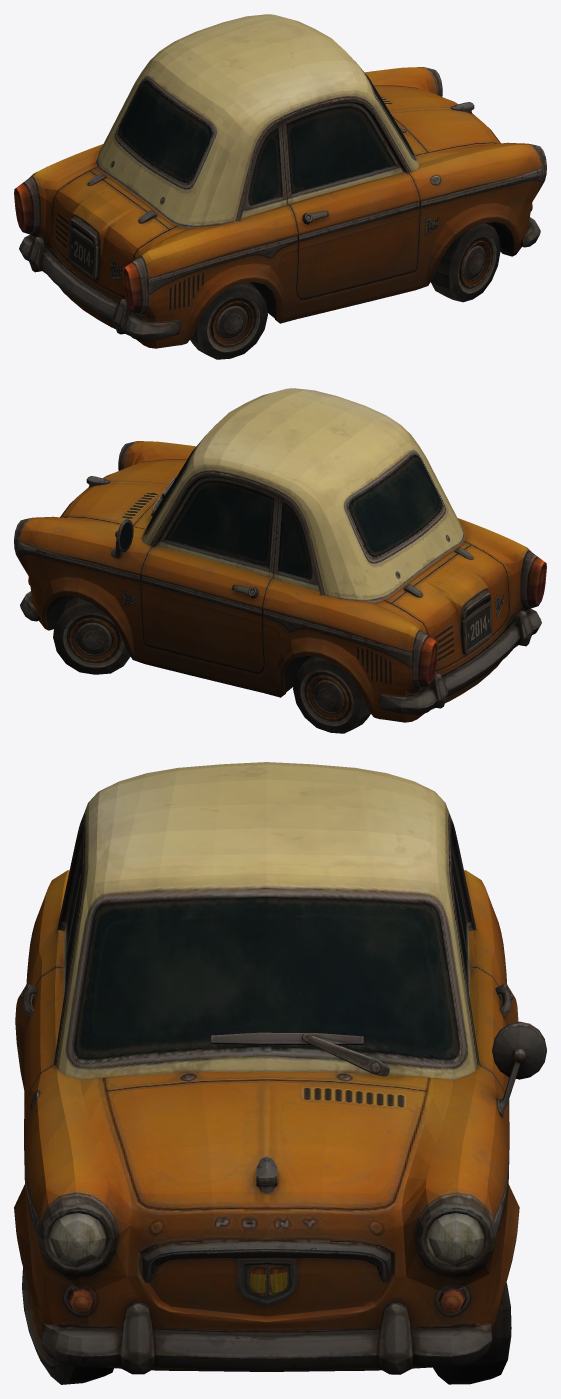
File: car.glb
3 views of the same model, one above another, from view 1: azimuth 30°, elevation 25°; view 2: azimuth 150°, elevation 25°; view 3: azimuth 270°, elevation 25° (orthographic). The views are drawn at different scales.
Bounding box in the file's own units: 2.5 × 1.41 × 1.52.
Materials: 3 (3 with a texture image).
